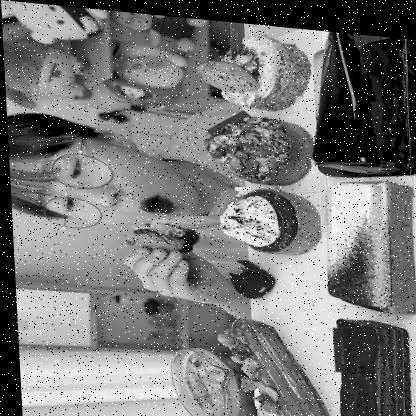streamer: (3, 80, 248, 316)
